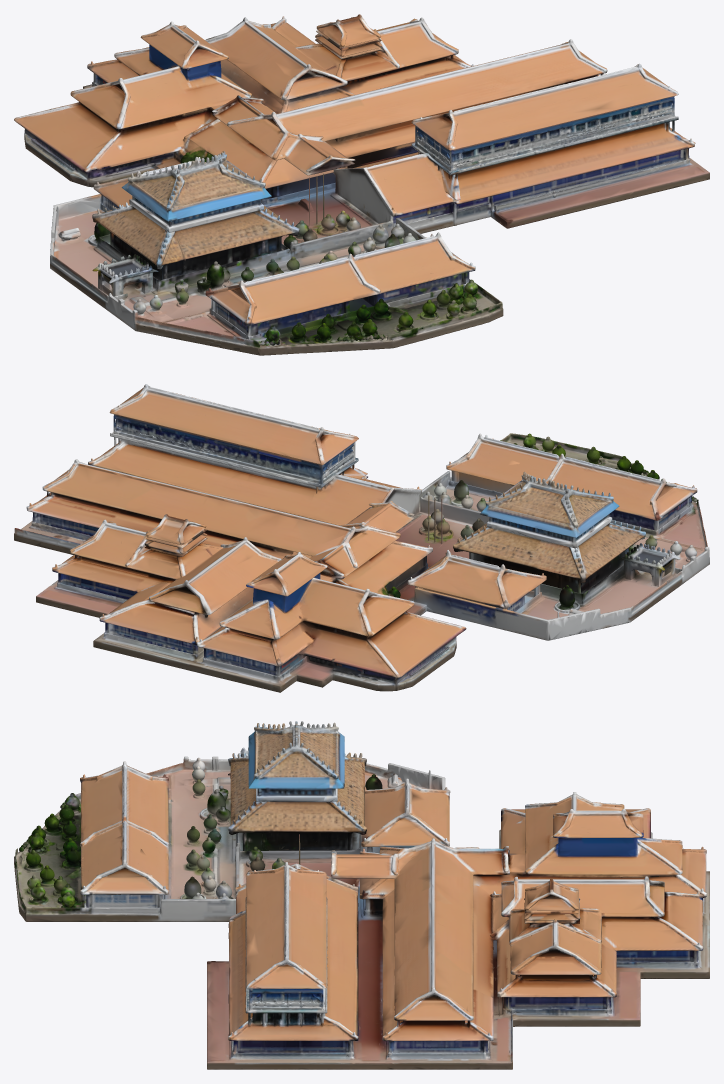
File: nhalonlongson-v1.glb
The picture shows the model from 3 angles, top to bottom: view 1: azimuth 30°, elevation 25°; view 2: azimuth 150°, elevation 25°; view 3: azimuth 270°, elevation 25°; orthographic projection. The views are drawn at different scales.
Parts seen in each view (by area): view 1: node_0; view 2: node_0; view 3: node_0.
Part boxes in pixels (x1,y1,x2,y2): node_0: (14, 14, 709, 355); node_0: (14, 384, 709, 692); node_0: (14, 721, 709, 1069).
Size of the model in its own units: 1.04 by 0.1735 by 1.04.
1 material, 1 textured.
